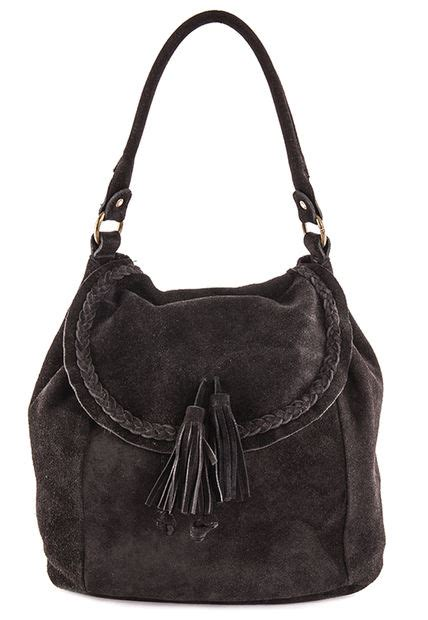gamuza: (28, 240, 388, 604)
